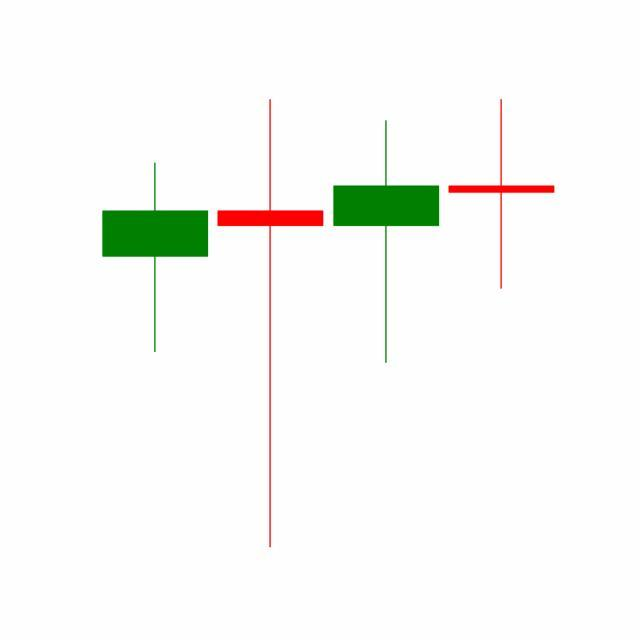Spinning Top: (329, 118, 445, 367)
